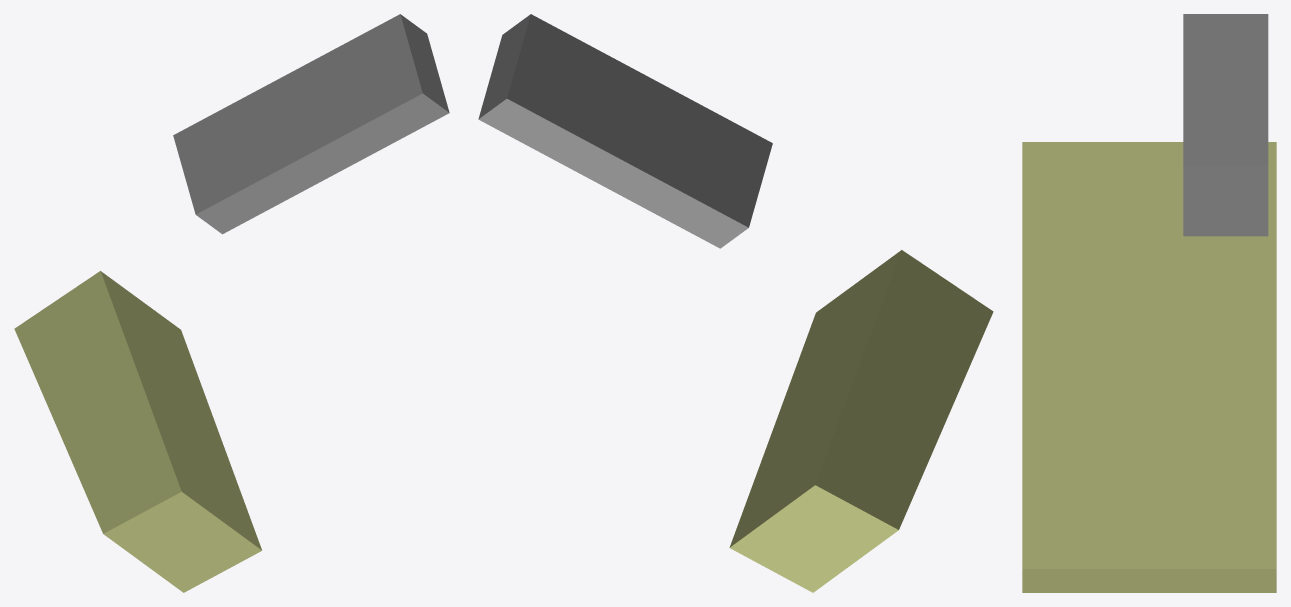
The picture shows the model from 3 angles, left to right: view 1: azimuth 30°, elevation 25°; view 2: azimuth 150°, elevation 25°; view 3: azimuth 270°, elevation 25°; orthographic projection. The views are drawn at different scales.
Visible parts, largest first — view 1: 0_1_0_2_0_0_3_2_0_3; view 2: 0_1_0_2_0_0_3_2_0_3; view 3: 0_1_0_2_0_0_3_2_0_3.
Part boxes in pixels (<box>): 0_1_0_2_0_0_3_2_0_3: <box>14,14,449,592</box>; 0_1_0_2_0_0_3_2_0_3: <box>478,14,993,592</box>; 0_1_0_2_0_0_3_2_0_3: <box>1022,14,1276,592</box>.
Size of the model in its own units: 26.16 by 27.73 by 9.
